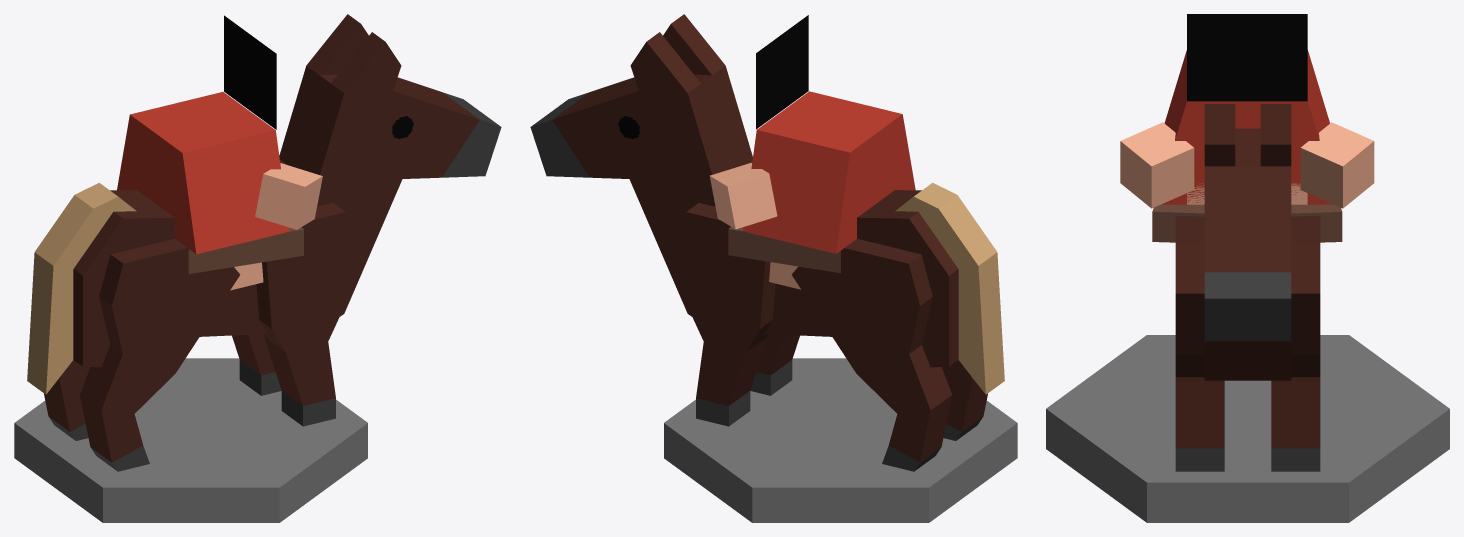
File: Horseman.fbx
3 views of the same model, side by side, from view 1: azimuth 30°, elevation 25°; view 2: azimuth 150°, elevation 25°; view 3: azimuth 270°, elevation 25° (orthographic). The views are drawn at different scales.
Parts seen in each view (by area): view 1: Cube, Base, Face, Hand R, Head; view 2: Cube, Base, Face, Hand L, Head; view 3: Cube, Face, Base, Hand L, Hand R, Head.
Boxes of the visible parts, left/top/right/bottom form: Cube: left=14, top=14, right=501, bottom=522; Base: left=117, top=92, right=303, bottom=273; Face: left=224, top=15, right=276, bottom=129; Hand R: left=255, top=163, right=322, bottom=229; Head: left=177, top=224, right=263, bottom=290; Cube: left=530, top=14, right=1017, bottom=522; Base: left=728, top=91, right=915, bottom=273; Face: left=756, top=15, right=808, bottom=129; Hand L: left=709, top=162, right=777, bottom=229; Head: left=769, top=262, right=800, bottom=289; Cube: left=1046, top=104, right=1449, bottom=522; Face: left=1187, top=14, right=1307, bottom=101; Base: left=1152, top=50, right=1342, bottom=242; Hand L: left=1300, top=122, right=1374, bottom=208; Hand R: left=1120, top=122, right=1194, bottom=208; Head: left=1187, top=183, right=1307, bottom=204.
Bounding box in the file's own units: 423 × 371 × 290.
